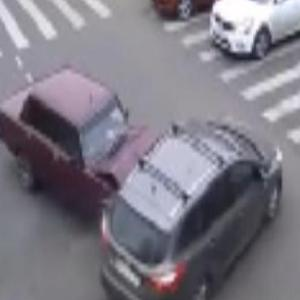superficial: (0, 60, 286, 300)
